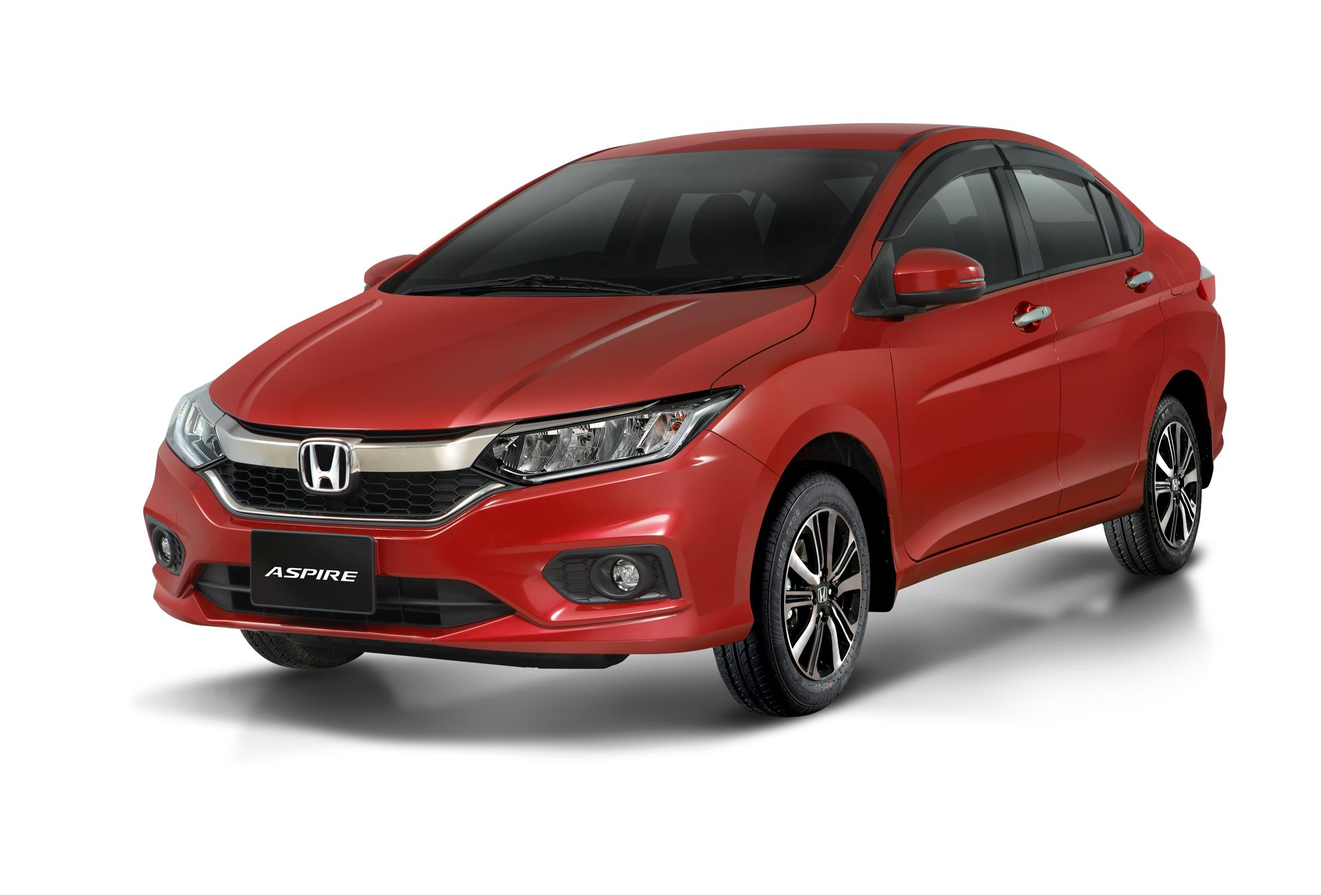Sedan: (145, 117, 1239, 716)
